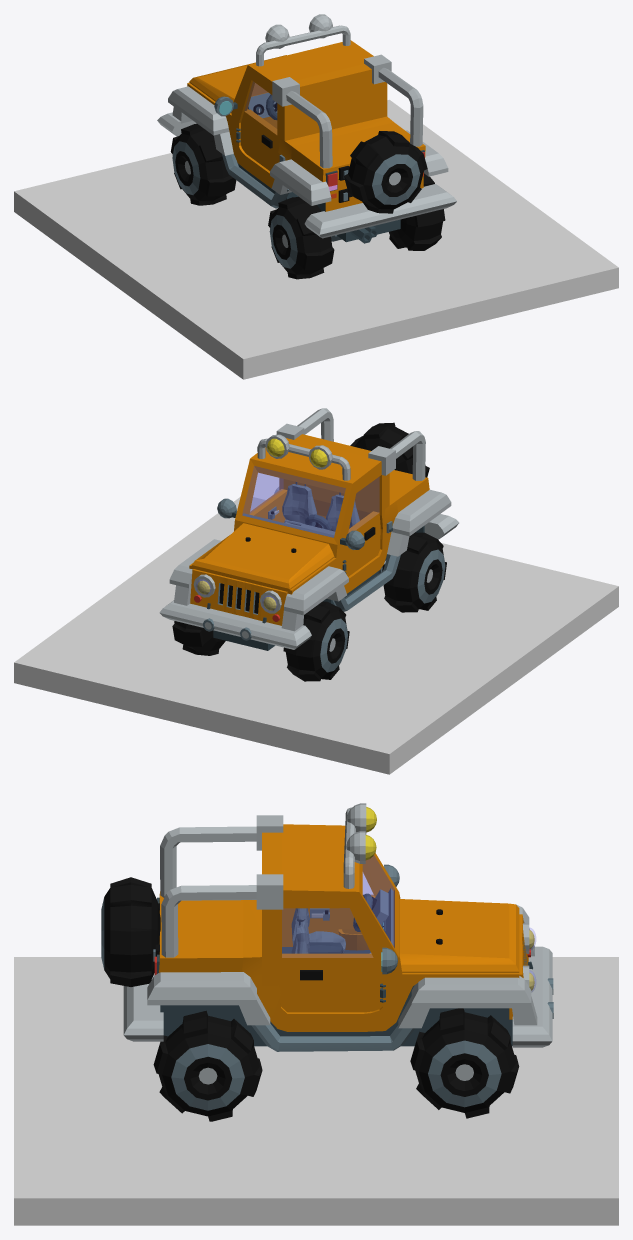
3 views of the same model, one above another, from view 1: azimuth 30°, elevation 25°; view 2: azimuth 150°, elevation 25°; view 3: azimuth 270°, elevation 25° (orthographic). The views are drawn at different scales.
Visible parts, largest first — view 1: node_MeshObject-1456553984-PolyPaper23, node_MeshObject259683328-PolyPaper17, node_MeshObject-884474880-PolyGlass24; view 2: node_MeshObject-1456553984-PolyPaper23, node_MeshObject259683328-PolyPaper17, node_MeshObject-884474880-PolyGlass24; view 3: node_MeshObject-1456553984-PolyPaper23, node_MeshObject259683328-PolyPaper17, node_MeshObject-884474880-PolyGlass24.
Boxes of the visible parts, box(x1,y1,x2,y2) form: node_MeshObject-1456553984-PolyPaper23: box(14, 92, 618, 379); node_MeshObject259683328-PolyPaper17: box(157, 14, 456, 279); node_MeshObject-884474880-PolyGlass24: box(245, 81, 276, 134); node_MeshObject-1456553984-PolyPaper23: box(14, 482, 618, 774); node_MeshObject259683328-PolyPaper17: box(159, 408, 459, 655); node_MeshObject-884474880-PolyGlass24: box(196, 466, 379, 611); node_MeshObject-1456553984-PolyPaper23: box(14, 864, 618, 1225); node_MeshObject259683328-PolyPaper17: box(101, 803, 552, 1118); node_MeshObject-884474880-PolyGlass24: box(282, 856, 535, 991).
Bounding box in the file's own units: 1.72 × 0.9493 × 1.82.
